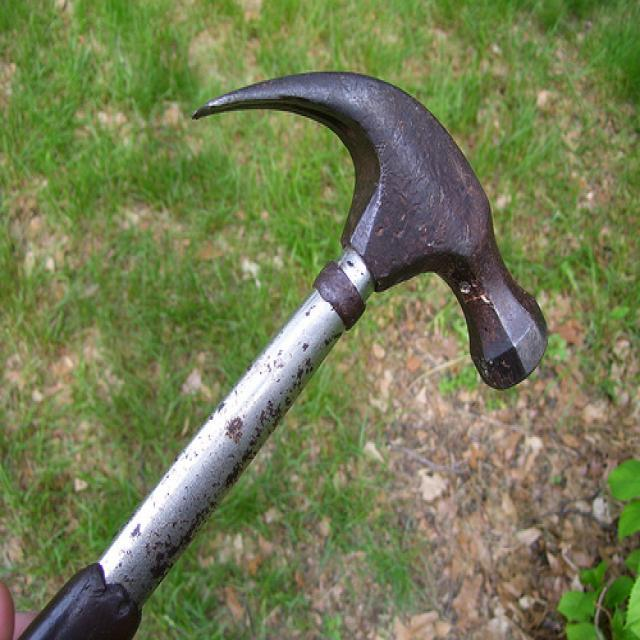screwdriver: (8, 56, 562, 640)
